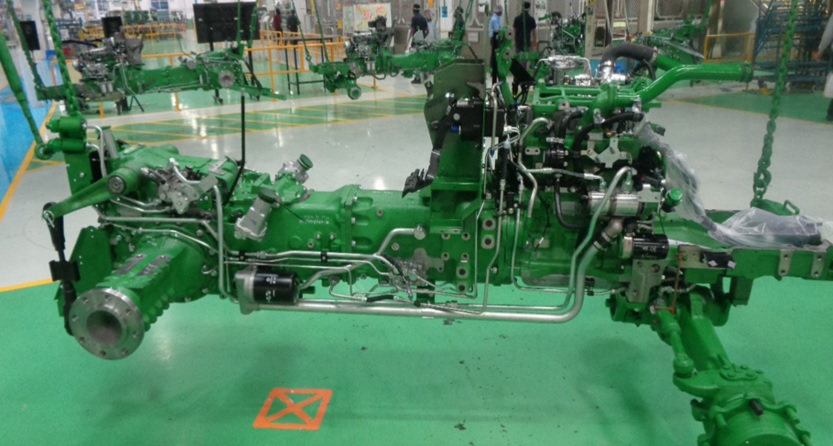engine: (42, 27, 829, 438)
